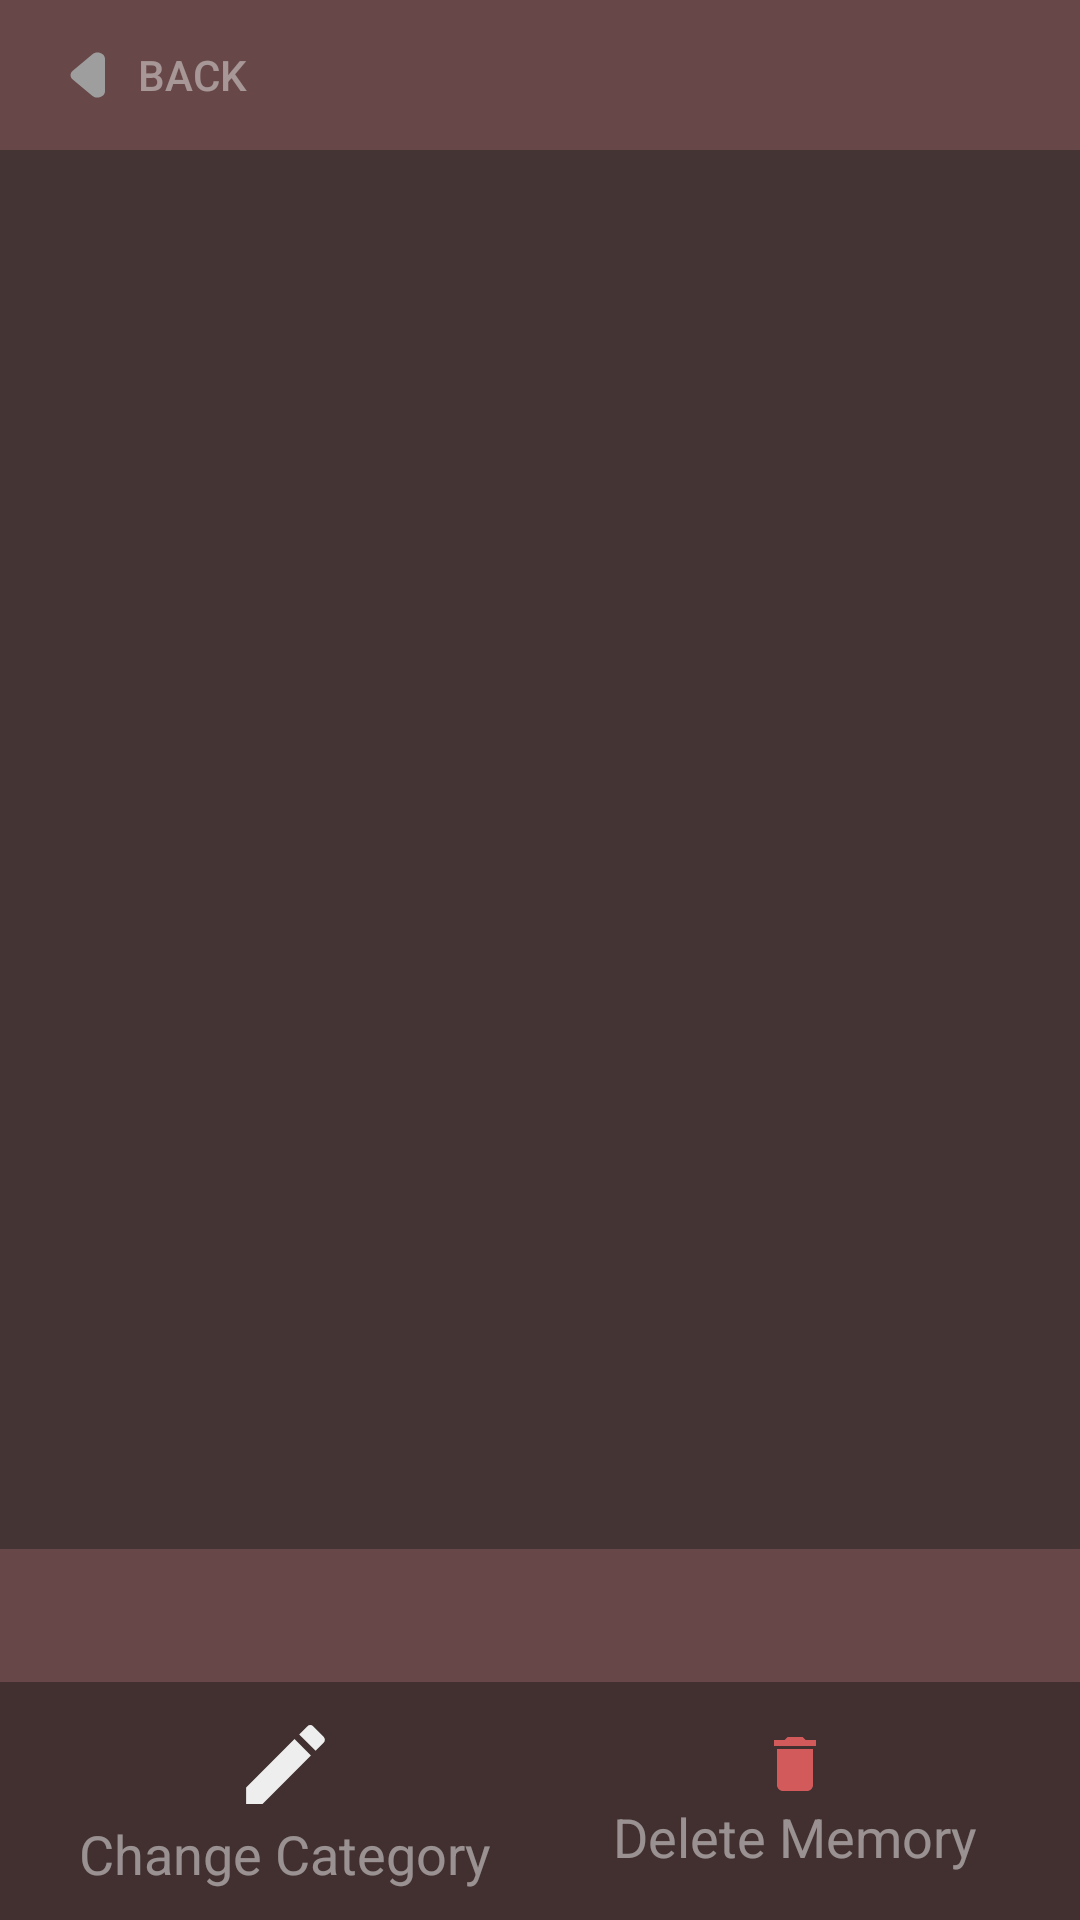

Locate icon controls on the screen. Image size 1080×1920, boxes as (x1, y1, x2, y2).
Edit: (246, 1725, 325, 1804)
